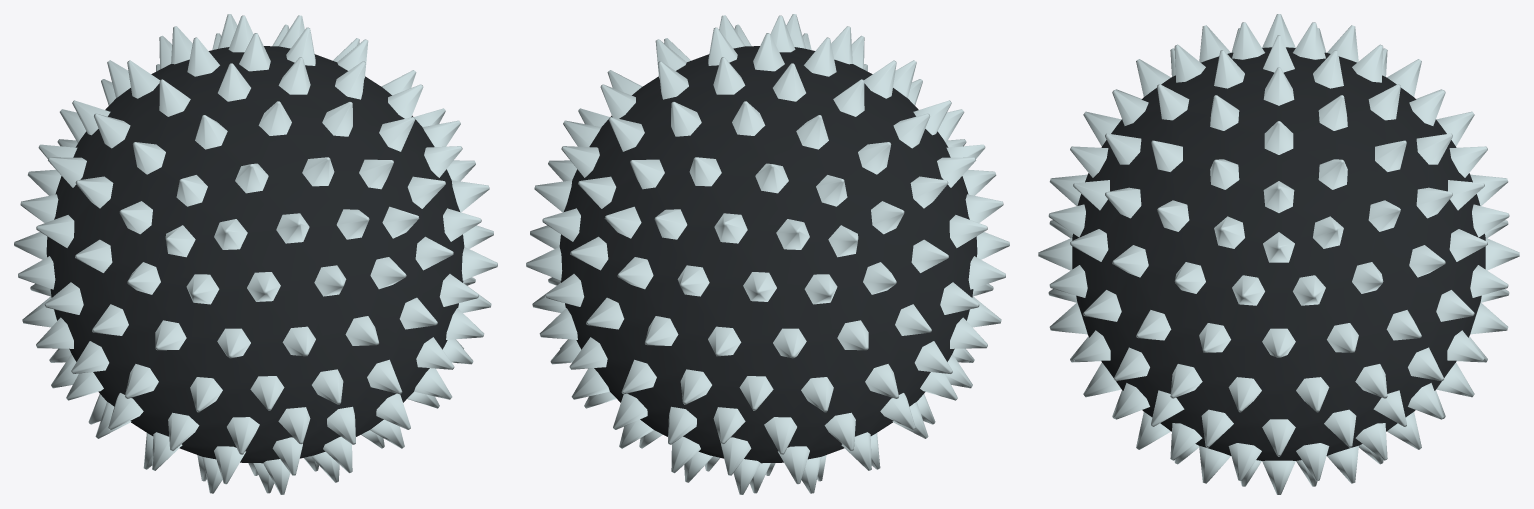
The model's file is spiked-ball.glb.
3 views of the same model, side by side, from view 1: azimuth 30°, elevation 25°; view 2: azimuth 150°, elevation 25°; view 3: azimuth 270°, elevation 25° (orthographic).
Parts seen in each view (by area): view 1: Icosphere; view 2: Icosphere; view 3: Icosphere.
Part boxes in pixels (<box>): Icosphere: <box>14,14,497,494</box>; Icosphere: <box>526,14,1009,494</box>; Icosphere: <box>1038,14,1519,494</box>.
Size of the model in its own units: 0.5748 by 0.5759 by 0.5748.
